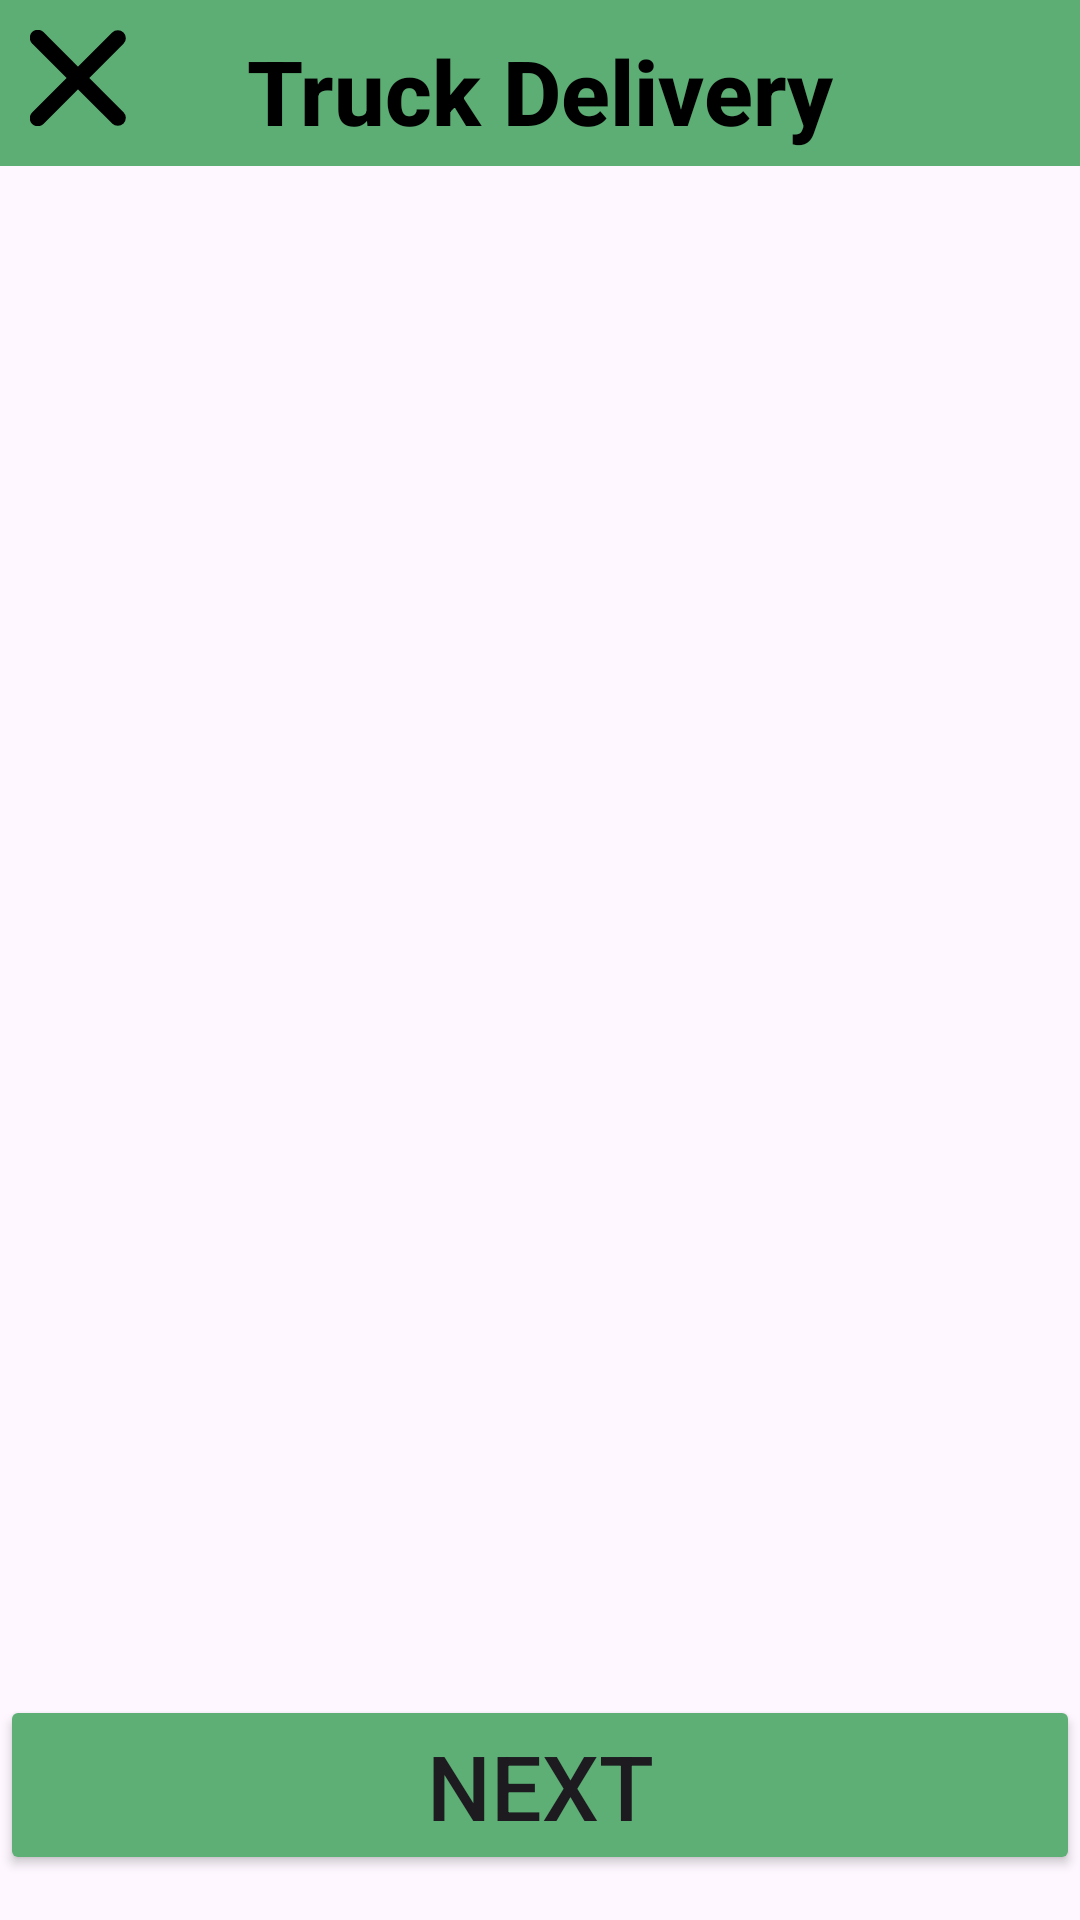

Where icons sit on this 1080px x 1920px app screen, as region(x1, y1, x2, y2):
close: region(30, 30, 126, 126)
